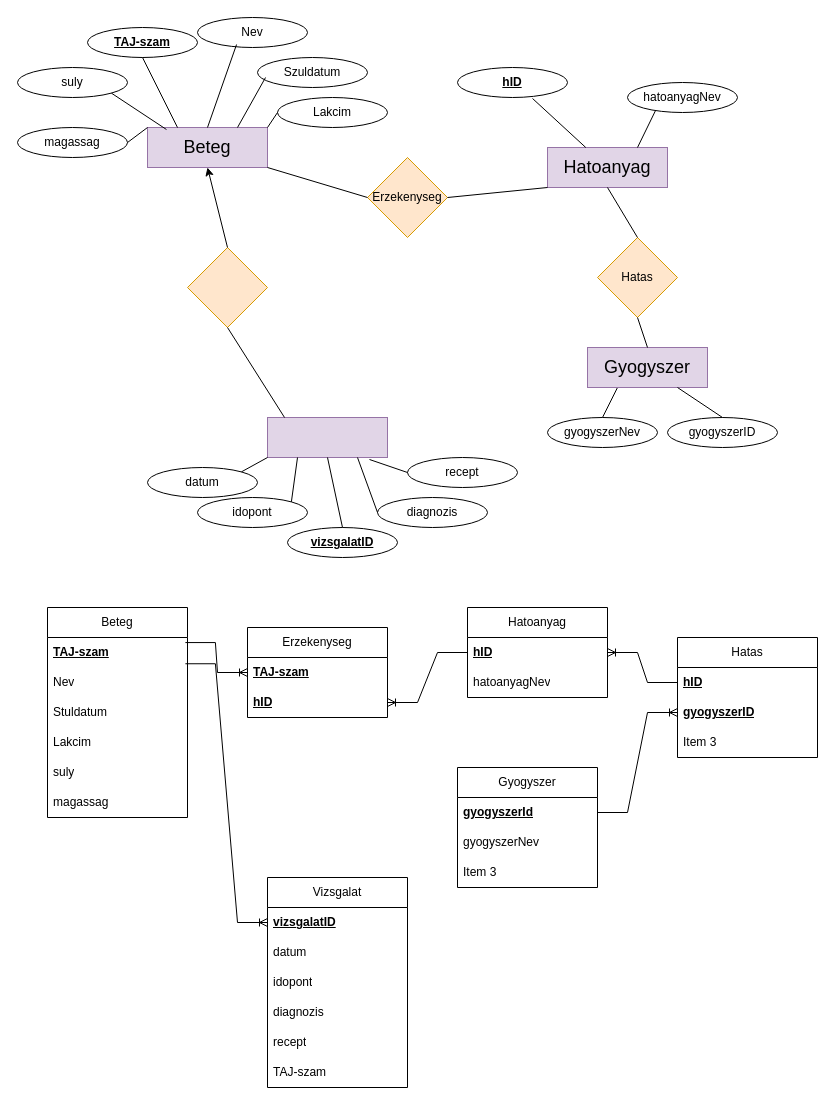
This 835x1105 diagram has some shape labels left out. Here are the shapes that lost their labels. From the top down, the centre of each, then its label:
At (227,287): "Vizsgalja".
At (327,437): "Viszgalat".
